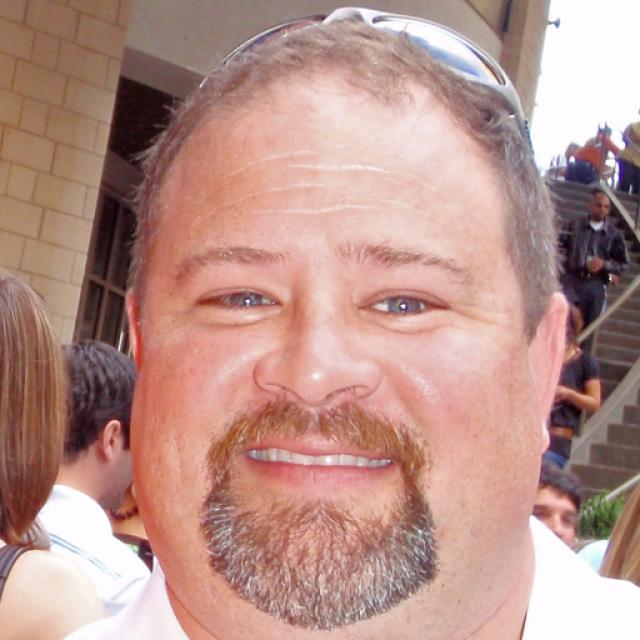Wrinkle: (193, 178, 339, 226), (223, 147, 318, 172), (289, 160, 407, 180), (259, 198, 377, 217)
